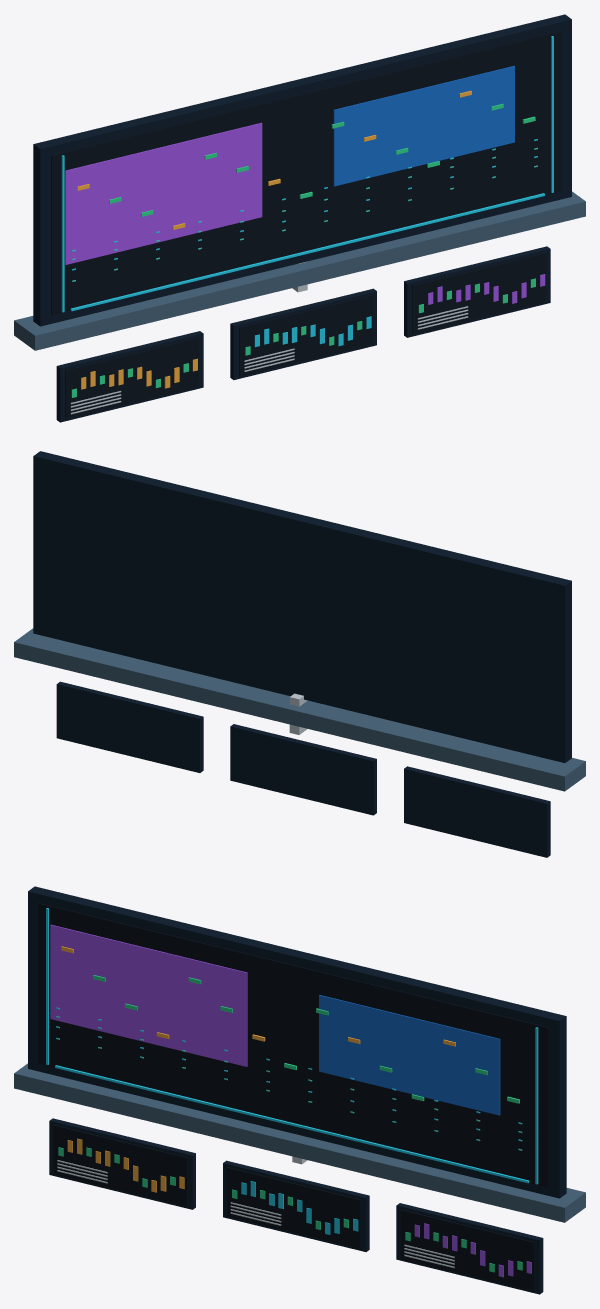
File: 60_L77_HolographicCopperInterconnectSCADA.fbx
3 renders of one model, top to bottom at view 1: azimuth 30°, elevation 25°; view 2: azimuth 150°, elevation 25°; view 3: azimuth 330°, elevation 25°, orthographic.
Parts seen in each view (by area): view 1: HolographicCopperInterconnectSCADA_Part_0001, HolographicCopperInterconnectSCADA, HolographicCopperInterconnectSCADA_Part_0002, HolographicCopperInterconnectSCADA_Part_0000, HolographicCopperInterconnectSCADA_Part_0003, HolographicCopperInterconnectSCADA_Part_0054, HolographicCopperInterconnectSCADA_Part_0052; view 2: HolographicCopperInterconnectSCADA_Part_0000, HolographicCopperInterconnectSCADA; view 3: HolographicCopperInterconnectSCADA_Part_0001, HolographicCopperInterconnectSCADA, HolographicCopperInterconnectSCADA_Part_0002, HolographicCopperInterconnectSCADA_Part_0000, HolographicCopperInterconnectSCADA_Part_0003, HolographicCopperInterconnectSCADA_Part_0054, HolographicCopperInterconnectSCADA_Part_0053.
Boxes of the visible parts, box(x1,y1,x2,y2) form: HolographicCopperInterconnectSCADA_Part_0001: box(51, 31, 561, 315); HolographicCopperInterconnectSCADA: box(14, 191, 585, 422); HolographicCopperInterconnectSCADA_Part_0002: box(65, 122, 262, 264); HolographicCopperInterconnectSCADA_Part_0000: box(33, 14, 571, 326); HolographicCopperInterconnectSCADA_Part_0003: box(333, 65, 514, 186); HolographicCopperInterconnectSCADA_Part_0054: box(70, 193, 544, 311); HolographicCopperInterconnectSCADA_Part_0052: box(61, 155, 64, 312); HolographicCopperInterconnectSCADA_Part_0000: box(33, 451, 571, 762); HolographicCopperInterconnectSCADA: box(14, 628, 585, 857); HolographicCopperInterconnectSCADA_Part_0001: box(38, 903, 548, 1187); HolographicCopperInterconnectSCADA: box(14, 1063, 585, 1294); HolographicCopperInterconnectSCADA_Part_0002: box(50, 924, 247, 1066); HolographicCopperInterconnectSCADA_Part_0000: box(28, 886, 566, 1198); HolographicCopperInterconnectSCADA_Part_0003: box(319, 995, 500, 1115); HolographicCopperInterconnectSCADA_Part_0054: box(55, 1065, 529, 1183); HolographicCopperInterconnectSCADA_Part_0053: box(535, 1027, 538, 1184).
Bounding box in the file's own units: 692 × 335 × 46.
